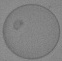small: (12, 20, 22, 30)
